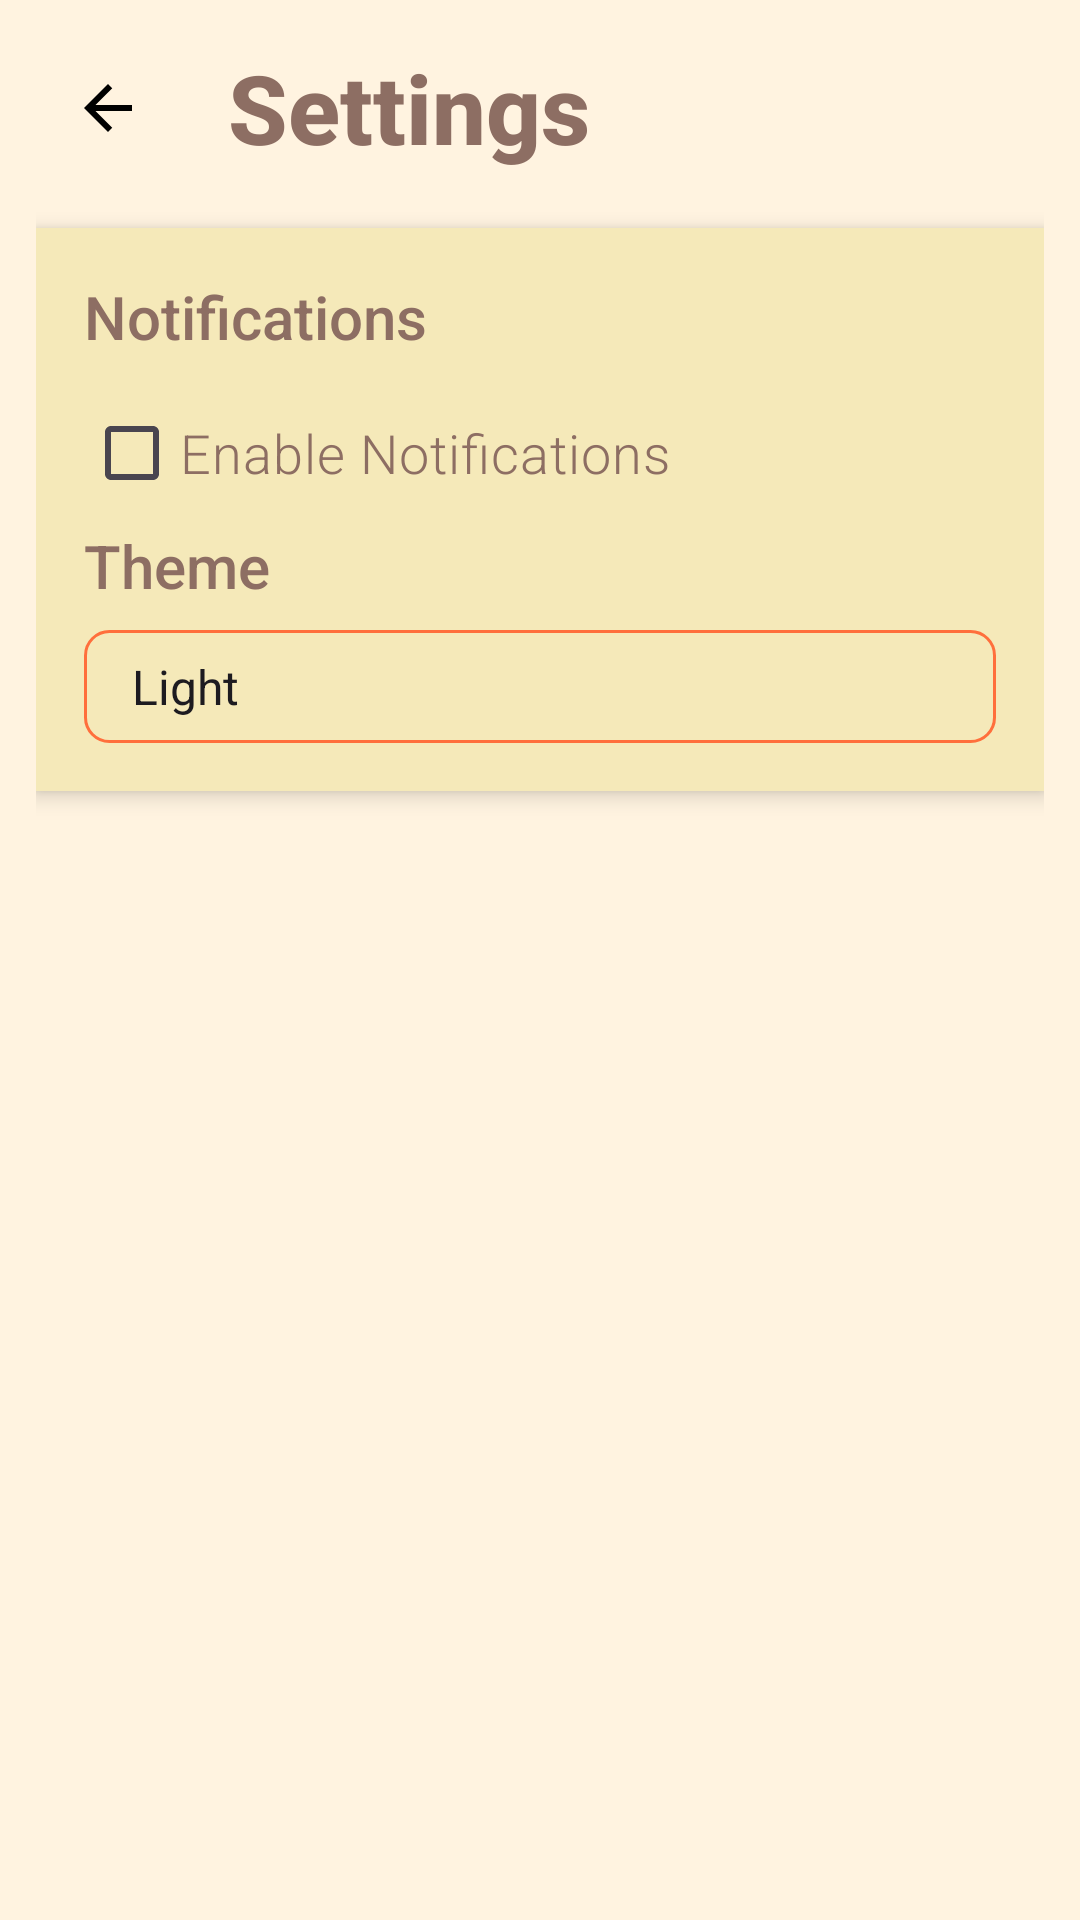

Where icons sit on this 1080x1920 app screen, as (x1, y1, x2, y2):
Back to Home: (84, 84, 132, 132)
